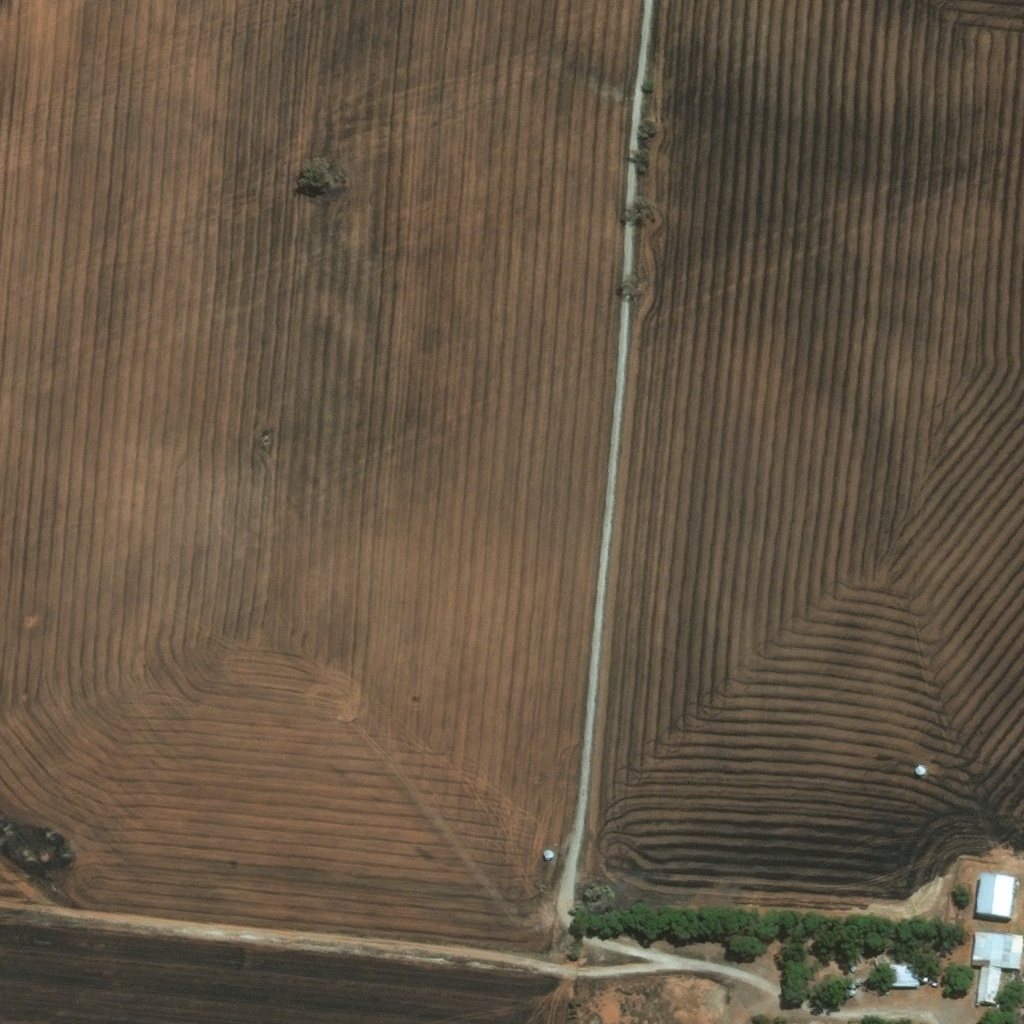0 no-damage: (971, 931, 1023, 968), (974, 870, 1014, 915), (883, 962, 929, 986), (976, 966, 1000, 1005), (873, 953, 889, 968)
4 un-classified: (974, 909, 1010, 923), (764, 943, 776, 955)
